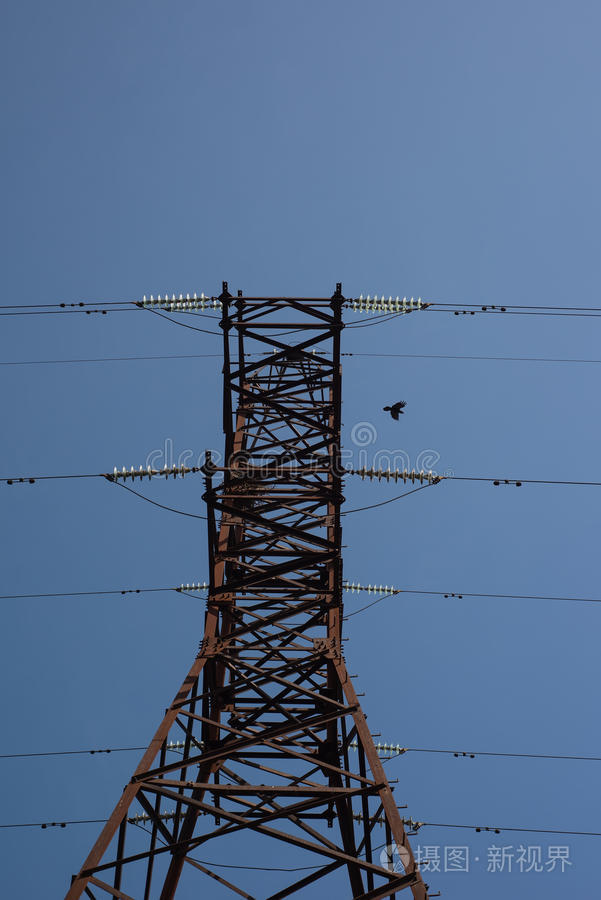insulator: (359, 462, 436, 488), (142, 293, 217, 318), (112, 461, 188, 485), (347, 293, 426, 316), (346, 579, 394, 598)
